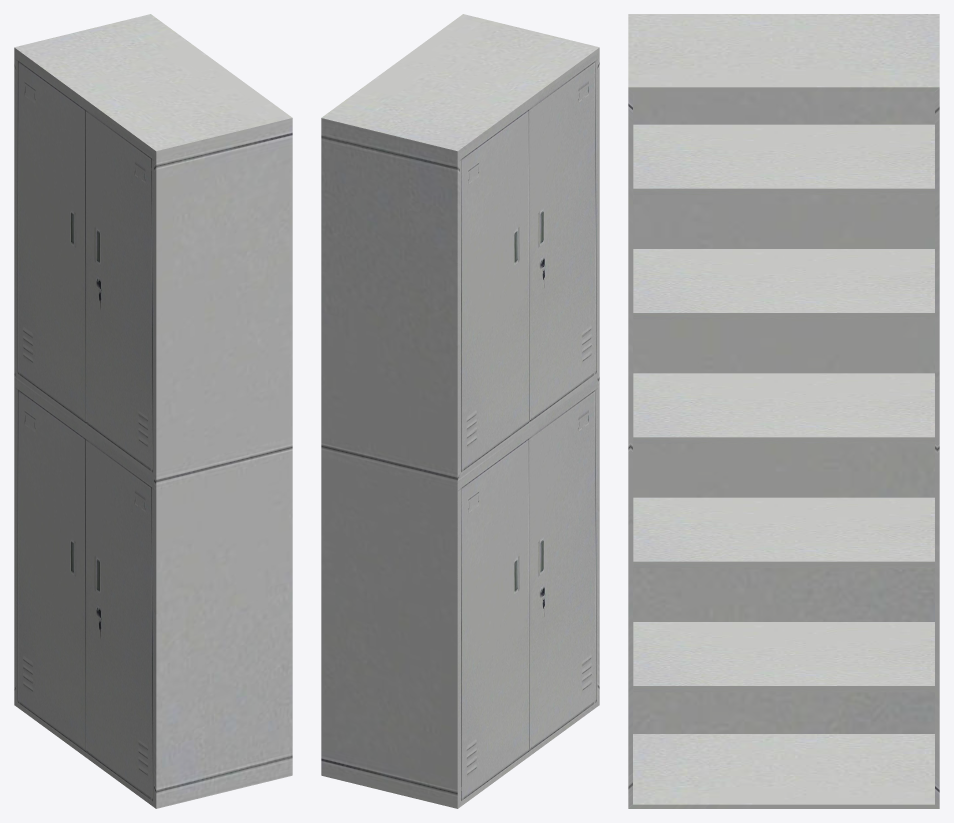
Rendered from 档案柜开口.obj.
The picture shows the model from 3 angles, left to right: view 1: azimuth 30°, elevation 25°; view 2: azimuth 150°, elevation 25°; view 3: azimuth 270°, elevation 25°; orthographic projection. The views are drawn at different scales.
Visible parts, largest first — view 1: Box005, object 2; view 2: Box005, object 2; view 3: object 3, Box005, Box006, Box008, Box009, Box010, Box011.
Part boxes in pixels (x1=…): Box005: x1=14, y1=14, x2=292, y2=808; object 2: x1=14, y1=49, x2=153, y2=802; Box005: x1=321, y1=14, x2=599, y2=808; object 2: x1=457, y1=48, x2=598, y2=808; object 3: x1=633, y1=91, x2=934, y2=733; Box005: x1=628, y1=14, x2=939, y2=808; Box006: x1=633, y1=124, x2=934, y2=194; Box008: x1=633, y1=249, x2=934, y2=319; Box009: x1=633, y1=373, x2=934, y2=443; Box010: x1=633, y1=497, x2=934, y2=567; Box011: x1=633, y1=622, x2=934, y2=692.
Bounding box in the file's own units: 50 × 230 × 90.
